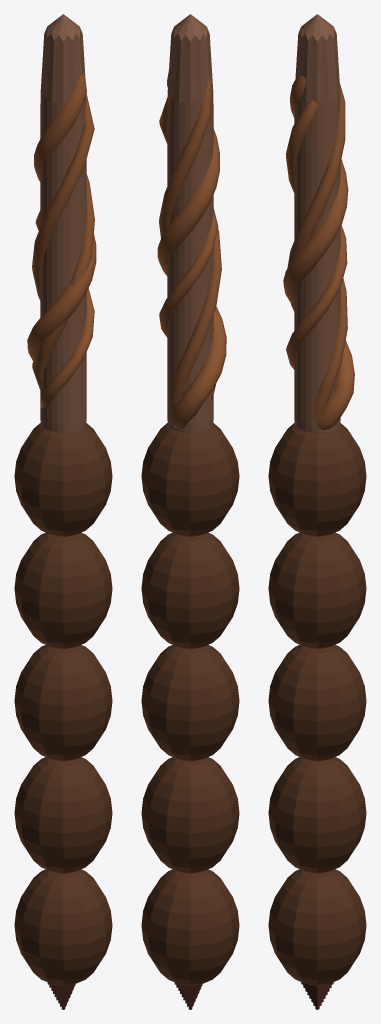
The model's file is Wand 274.glb.
3 renders of one model, left to right at view 1: azimuth 30°, elevation 25°; view 2: azimuth 210°, elevation 25°; view 3: azimuth 270°, elevation 25°, orthographic.
Parts seen in each view (by area): view 1: GeneratedWand; view 2: GeneratedWand; view 3: GeneratedWand.
Part boxes in pixels (x1=…): GeneratedWand: x1=14, y1=14, x2=112, y2=1009; GeneratedWand: x1=141, y1=14, x2=239, y2=1009; GeneratedWand: x1=268, y1=14, x2=366, y2=1009.
Size of the model in its own units: 0.0447 by 0.5028 by 0.0449.
